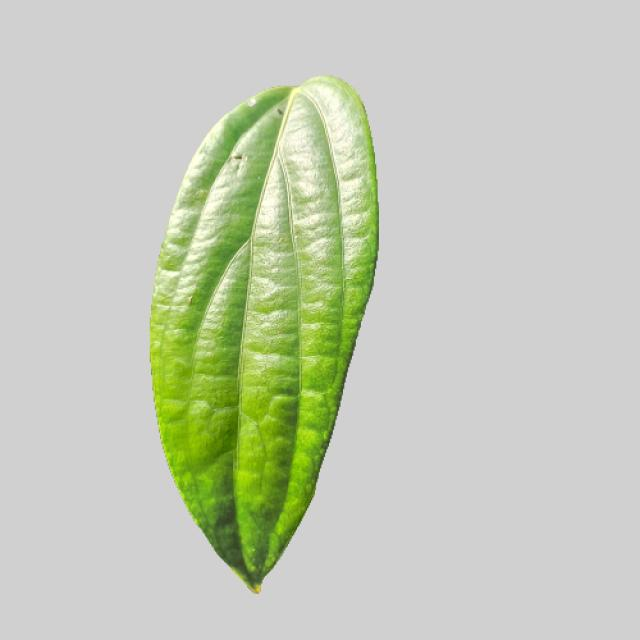healthy: (146, 73, 386, 592)
